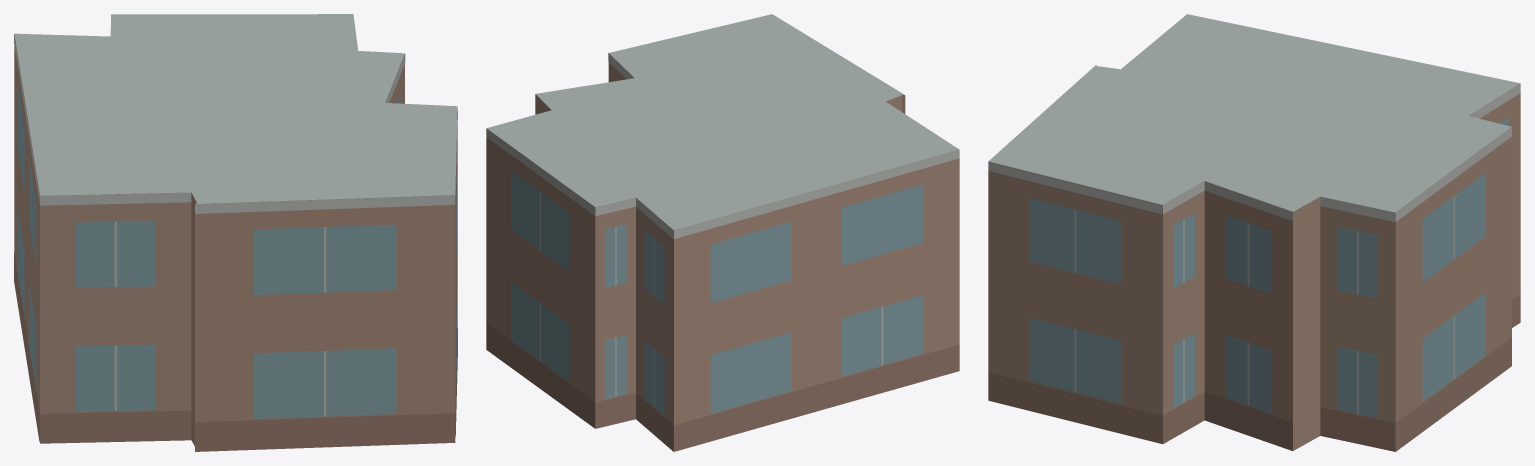
File: survey-upis-32591442.glb
The picture shows the model from 3 angles, left to right: view 1: azimuth 30°, elevation 25°; view 2: azimuth 150°, elevation 25°; view 3: azimuth 270°, elevation 25°; orthographic projection. The views are drawn at different scales.
Visible parts, largest first — view 1: survey-upis-32591442.tmp; view 2: survey-upis-32591442.tmp; view 3: survey-upis-32591442.tmp.
Boxes of the visible parts, box(x1,y1,x2,y2) form: survey-upis-32591442.tmp: box(14, 14, 457, 451); survey-upis-32591442.tmp: box(486, 14, 959, 451); survey-upis-32591442.tmp: box(988, 14, 1520, 451).
Size of the model in its own units: 10.87 by 6.1 by 12.31.
